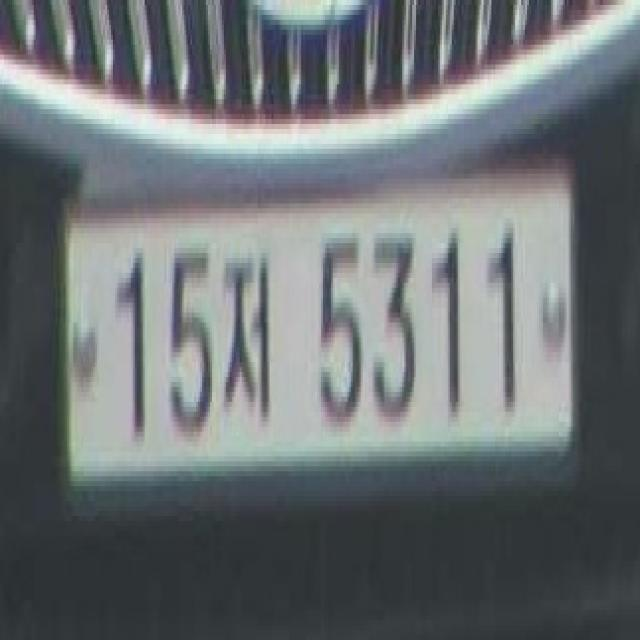1: (107, 214, 157, 456), (480, 208, 525, 427), (430, 213, 472, 417)
3: (367, 198, 430, 422)
5: (311, 213, 365, 437), (160, 228, 216, 442)
jeo: (220, 218, 277, 427)
license_plate: (55, 149, 582, 516)
